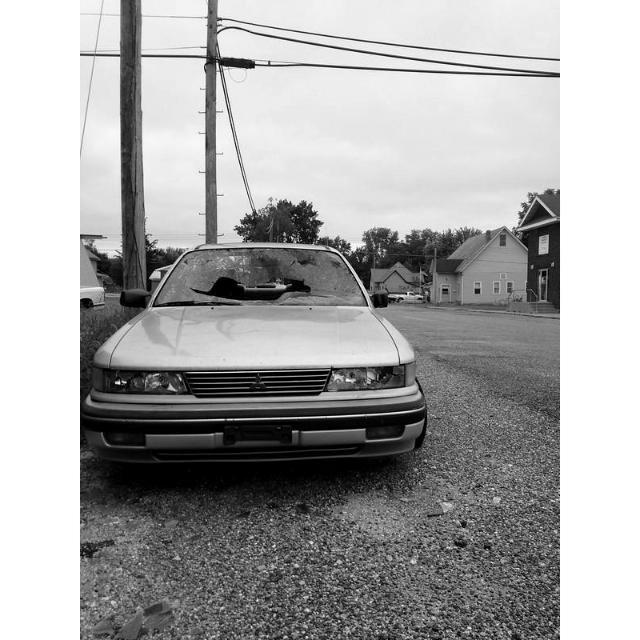Front-windscreen-damage: (159, 239, 345, 306)
